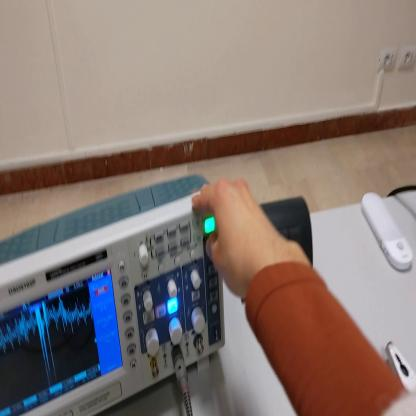hand: (191, 177, 290, 308)
oscilloscope: (1, 180, 226, 416)
